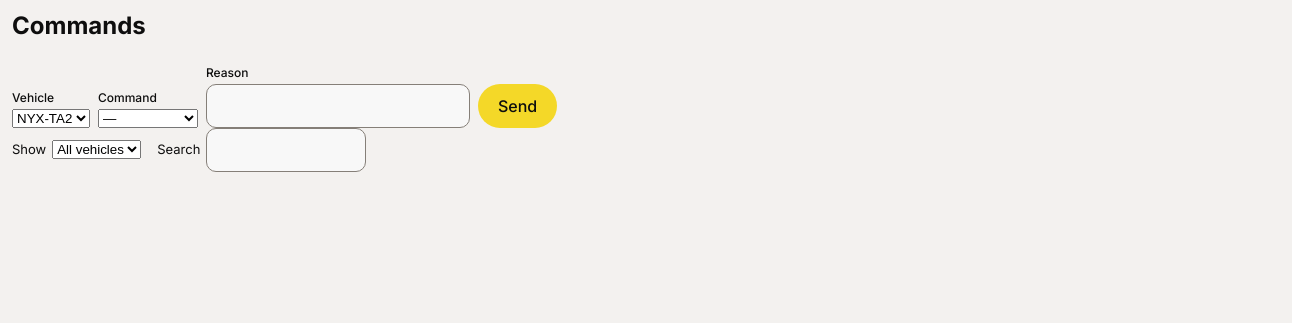
Scenario: a plain command (vehicle chosen explicitly): posted with the chosen vehicle, then the list is fetched so QUEUED shows at once
Select "NYX-TA2" in the dropdown labelled "Vehicle" at (51, 118), box 12,109 -> 90,128
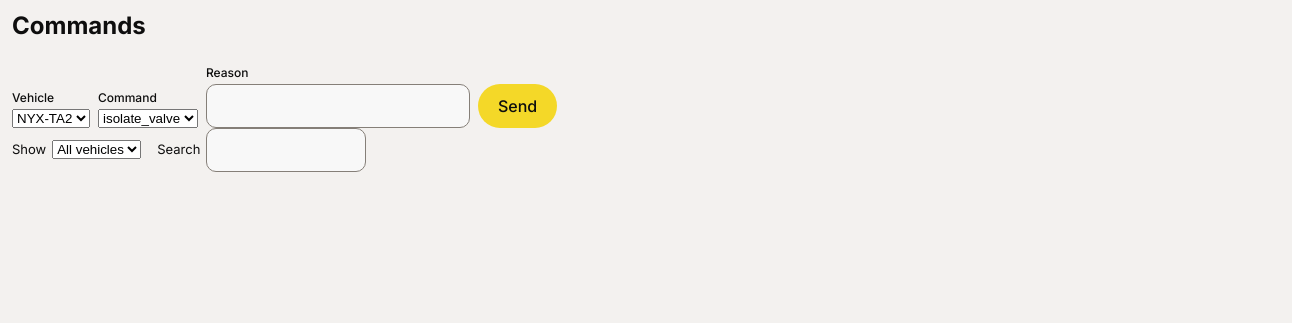
Select "isolate_valve" in the dropdown labelled "Command" at (148, 118), box 98,109 -> 198,128
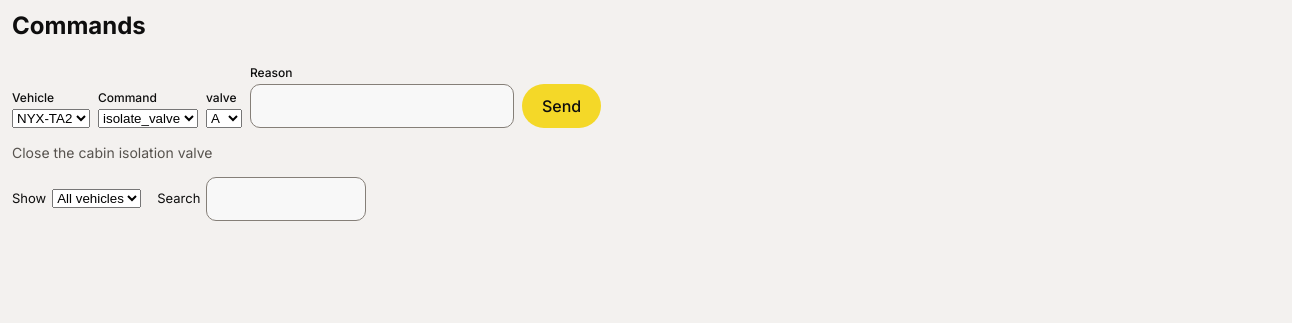
Select "A" in the dropdown labelled "valve" at (224, 118), box 206,109 -> 242,128
Click the button "Send" at (562, 106), box 522,84 -> 601,128
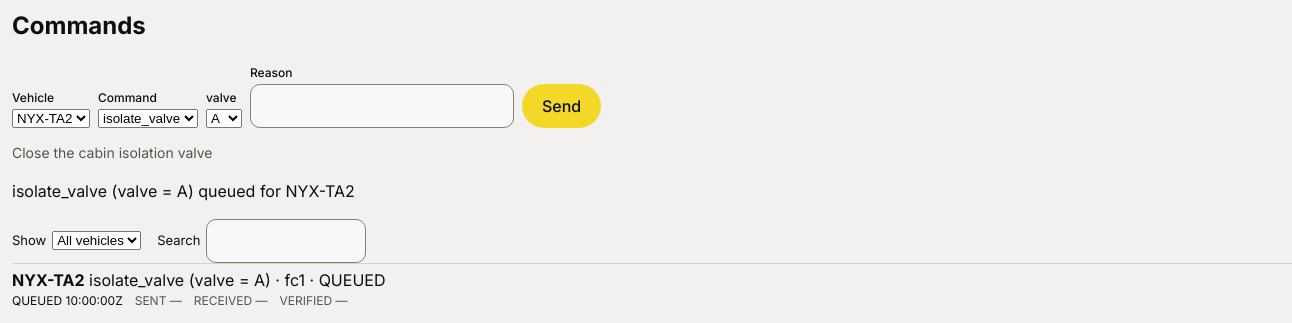
Result: the list item shows "isolate_valve (valve = A)" at 89,270 -> 271,290
Result: the message "isolate_valve (valve = A) queued for NYX-TA2" is shown at 12,181 -> 355,201
